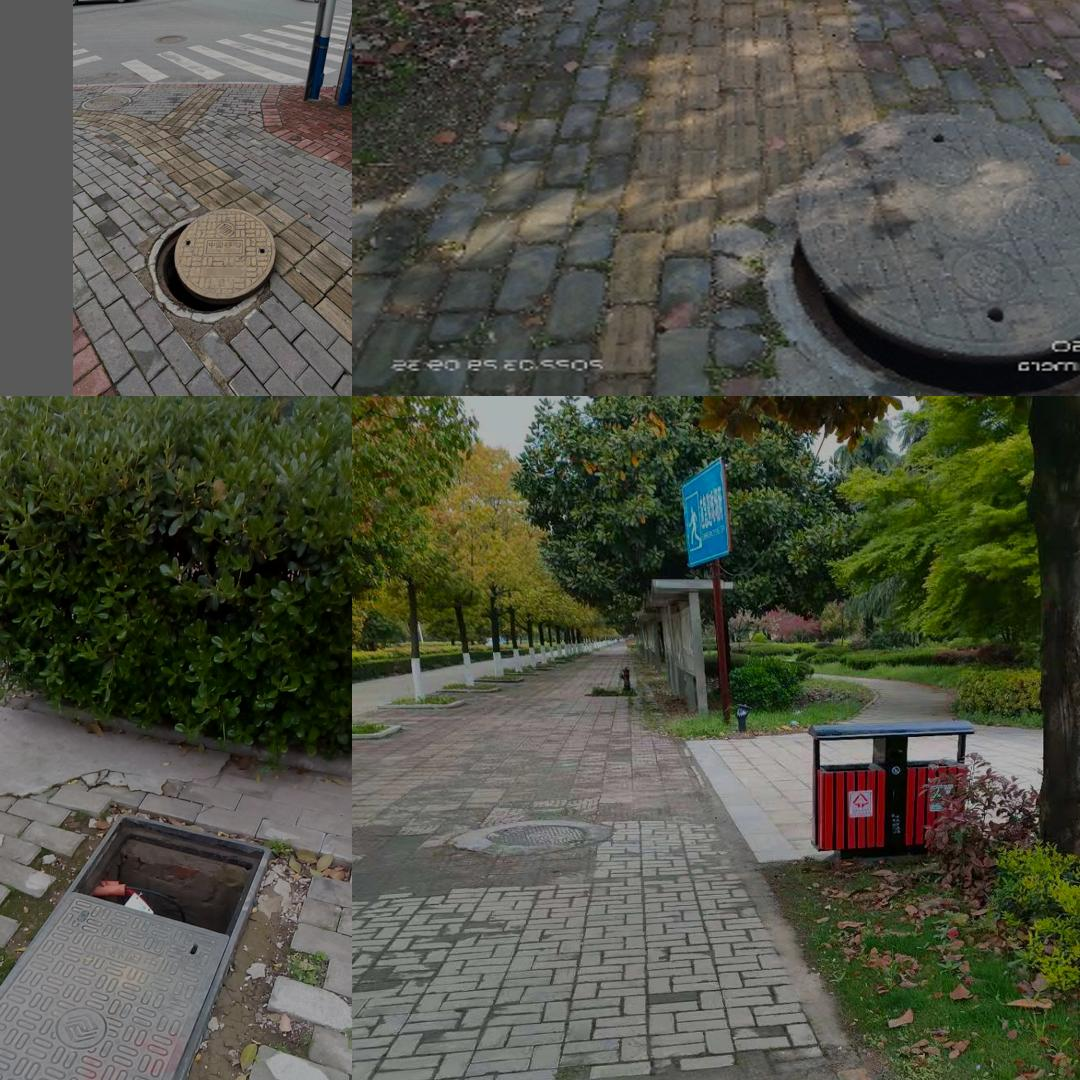uncovered: (762, 129, 1080, 396), (0, 824, 271, 1080), (147, 208, 276, 323), (572, 1077, 916, 1080)
